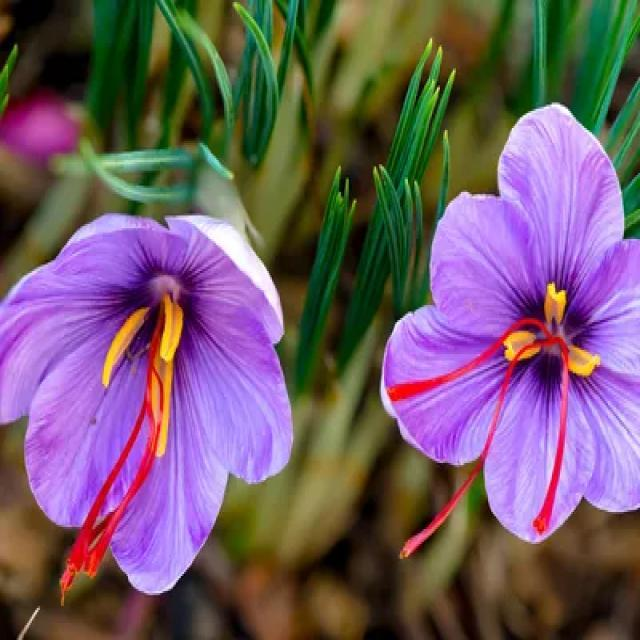Flower: (391, 131, 640, 549), (21, 215, 288, 554)
stigma: (56, 276, 194, 606), (385, 400, 512, 579), (530, 271, 588, 538), (382, 316, 552, 406)
